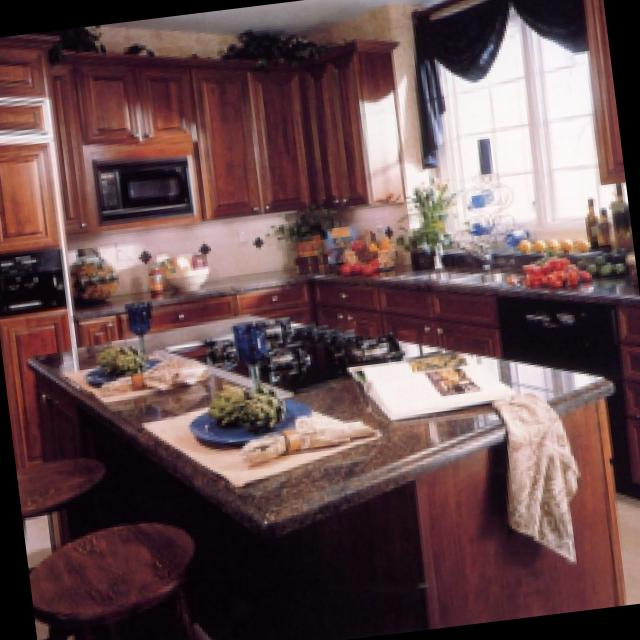2001: (445, 14, 605, 235)
2017: (129, 298, 153, 359)
basket crop: (74, 244, 116, 305)
book case: (351, 346, 518, 414)
bottle crop: (613, 182, 634, 250), (589, 196, 602, 244), (602, 204, 616, 246)
bowl -X: (170, 265, 210, 286)
cabinet door: (418, 398, 631, 620), (192, 59, 308, 213), (302, 38, 409, 204), (71, 53, 197, 140), (616, 309, 640, 492), (0, 41, 45, 92)
cabinets: (77, 277, 495, 351)
counter: (78, 265, 314, 312), (370, 262, 640, 298)
counter bottom: (30, 310, 616, 527)
cup and saucer: (240, 322, 269, 361)
curtain crop: (415, 0, 589, 163)
dish towels: (496, 390, 580, 558)
fruit basket: (337, 220, 403, 270)
microwave oven: (96, 157, 195, 218)
napkin ring: (245, 418, 381, 458), (111, 362, 207, 389)
oven cloth: (498, 296, 640, 492)
place mat: (143, 403, 335, 480)
plant -x: (398, 170, 457, 266), (215, 25, 322, 59), (271, 204, 348, 250), (25, 27, 110, 44)
plate food: (194, 394, 312, 437), (85, 360, 125, 382)
refrigerator: (0, 93, 80, 463)
sink basin: (395, 265, 519, 281)
sink occluded: (457, 234, 498, 267)
stool crop: (35, 524, 198, 640), (24, 458, 102, 518)
stove burner: (172, 312, 413, 385)
tomatoes: (527, 253, 596, 284)
vegetable: (592, 247, 626, 273)
